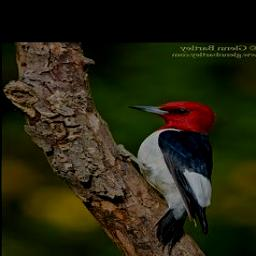Woodpecker: (110, 102, 223, 256)
